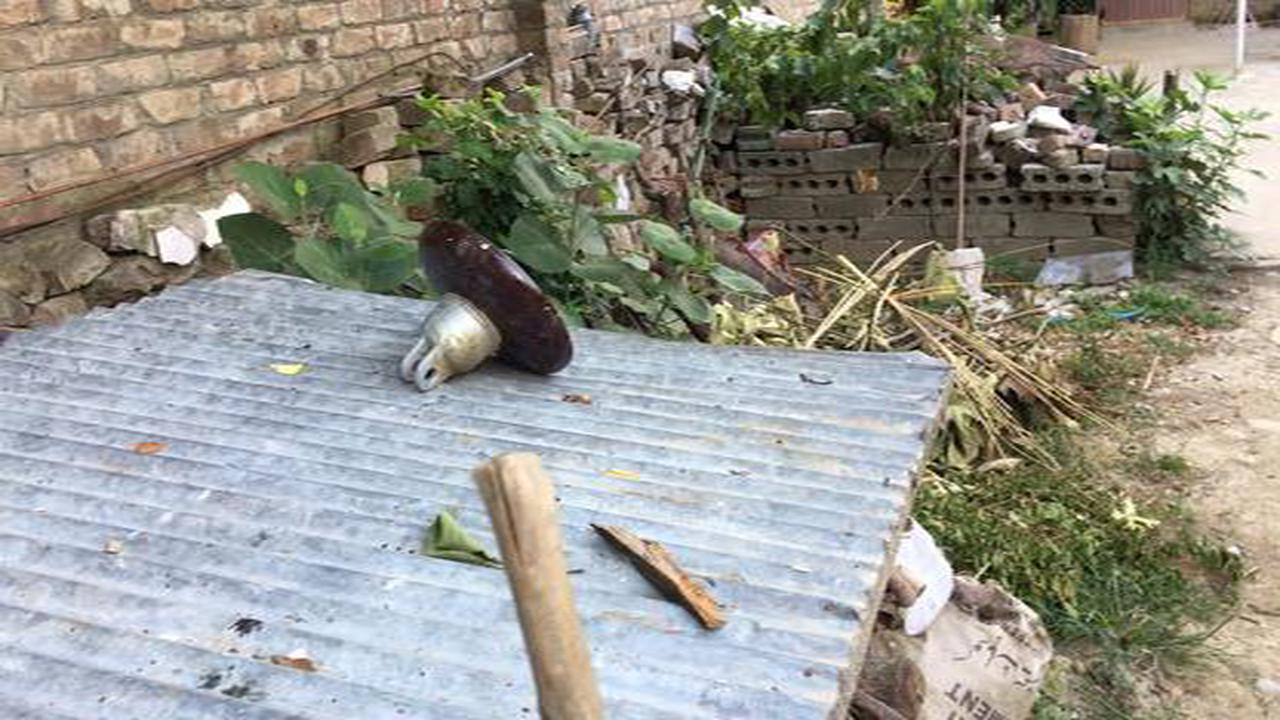insulator_disc: (397, 212, 584, 400)
